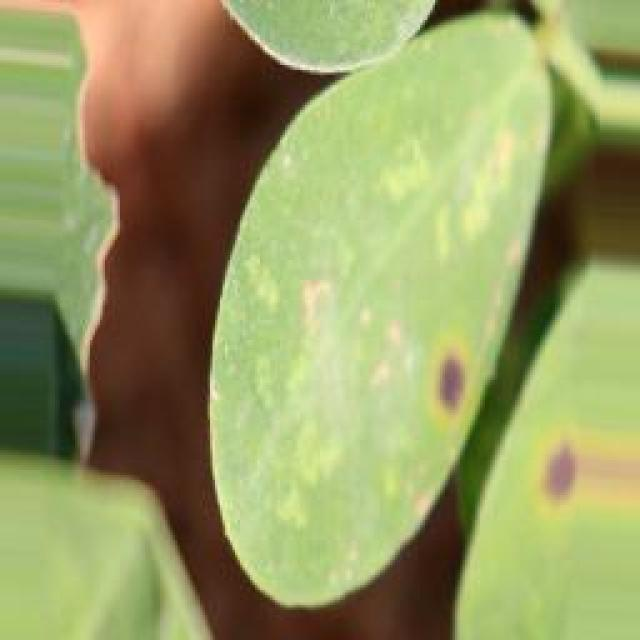Sigatoka: (486, 389, 588, 518), (391, 313, 460, 424)
